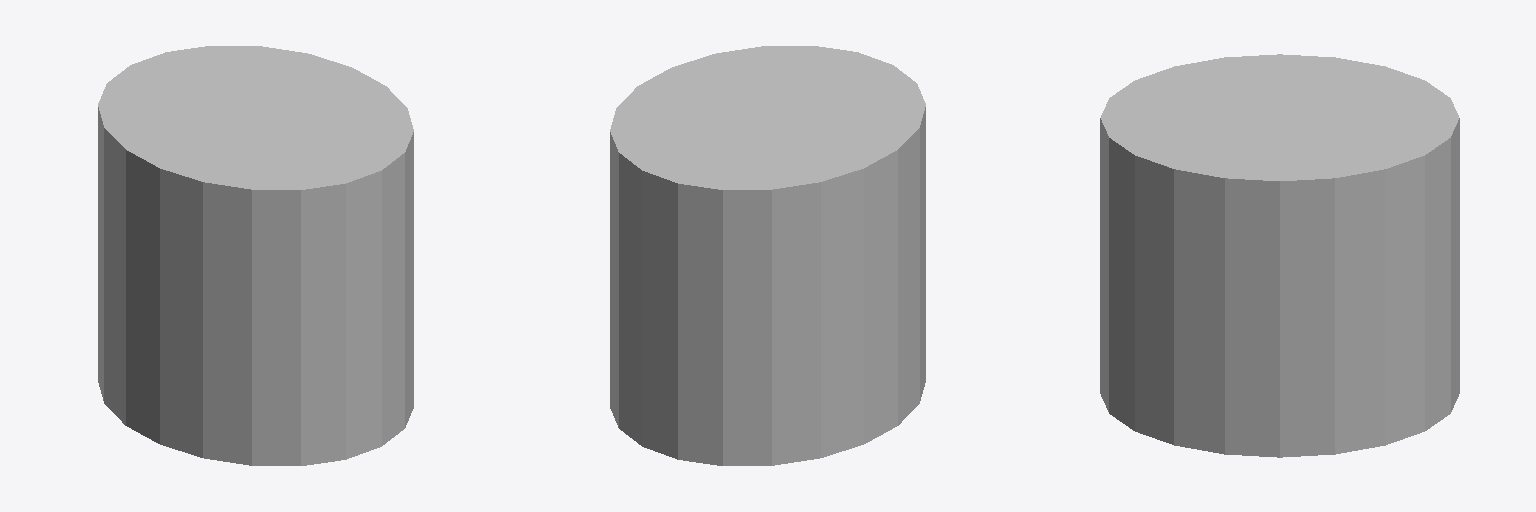
The model's file is glassWindow.obj.
3 renders of one model, left to right at view 1: azimuth 30°, elevation 25°; view 2: azimuth 150°, elevation 25°; view 3: azimuth 270°, elevation 25°, orthographic.
Visible parts, largest first — view 1: pCylinder1; view 2: pCylinder1; view 3: pCylinder1.
Part boxes in pixels (x1,y1,x2,y2): pCylinder1: (98,46,413,465); pCylinder1: (610,46,925,465); pCylinder1: (1100,54,1459,457).
Size of the model in its own units: 11.55 by 11.71 by 13.8.